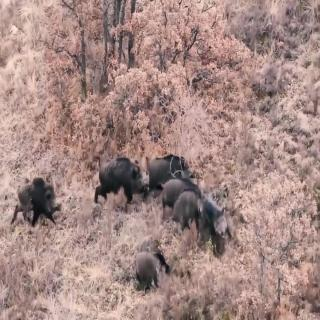Pig: (15, 163, 76, 232), (95, 143, 147, 207), (175, 186, 231, 242), (126, 235, 172, 282), (141, 140, 183, 180), (156, 170, 199, 202)
